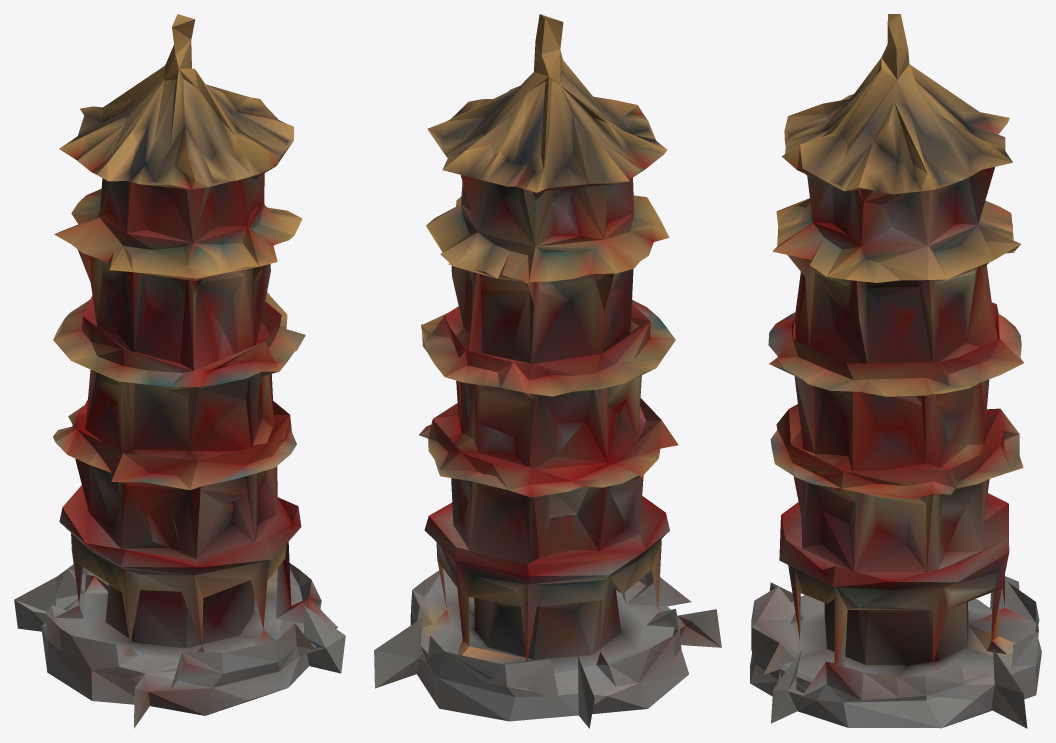
File: tower_nine.vc2.glb
The picture shows the model from 3 angles, left to right: view 1: azimuth 30°, elevation 25°; view 2: azimuth 150°, elevation 25°; view 3: azimuth 270°, elevation 25°; orthographic projection. The views are drawn at different scales.
Parts seen in each view (by area): view 1: tower_nine; view 2: tower_nine; view 3: tower_nine.
Part boxes in pixels (x1,y1,x2,y2): tower_nine: [14, 14, 345, 728]; tower_nine: [374, 14, 721, 728]; tower_nine: [750, 14, 1041, 728].
Size of the model in its own units: 0.7352 by 1.82 by 0.7283.
